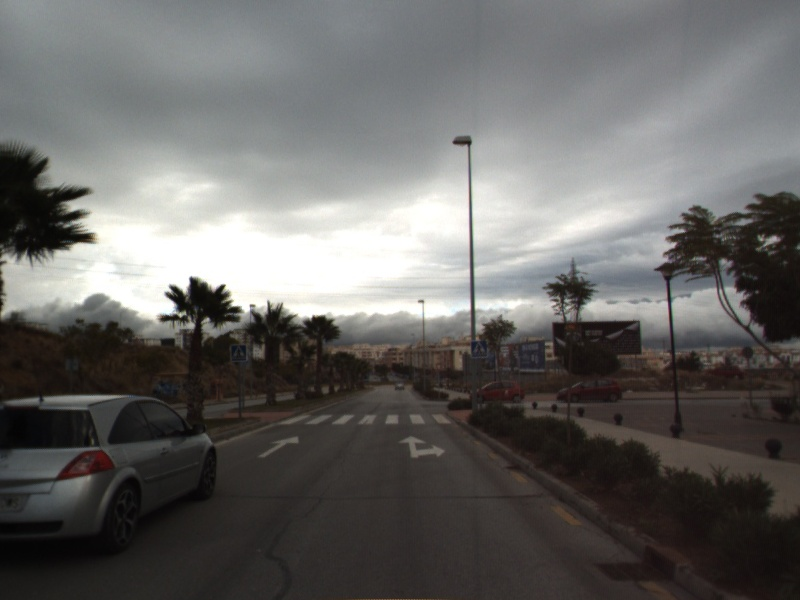STRAIGHT: (258, 434, 299, 458)
STRAIGHT_RIGHT: (396, 434, 447, 460)
